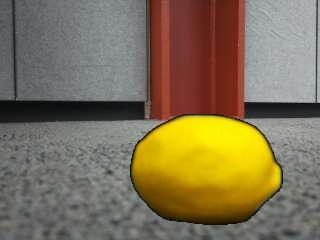lemon: (132, 114, 282, 224)
